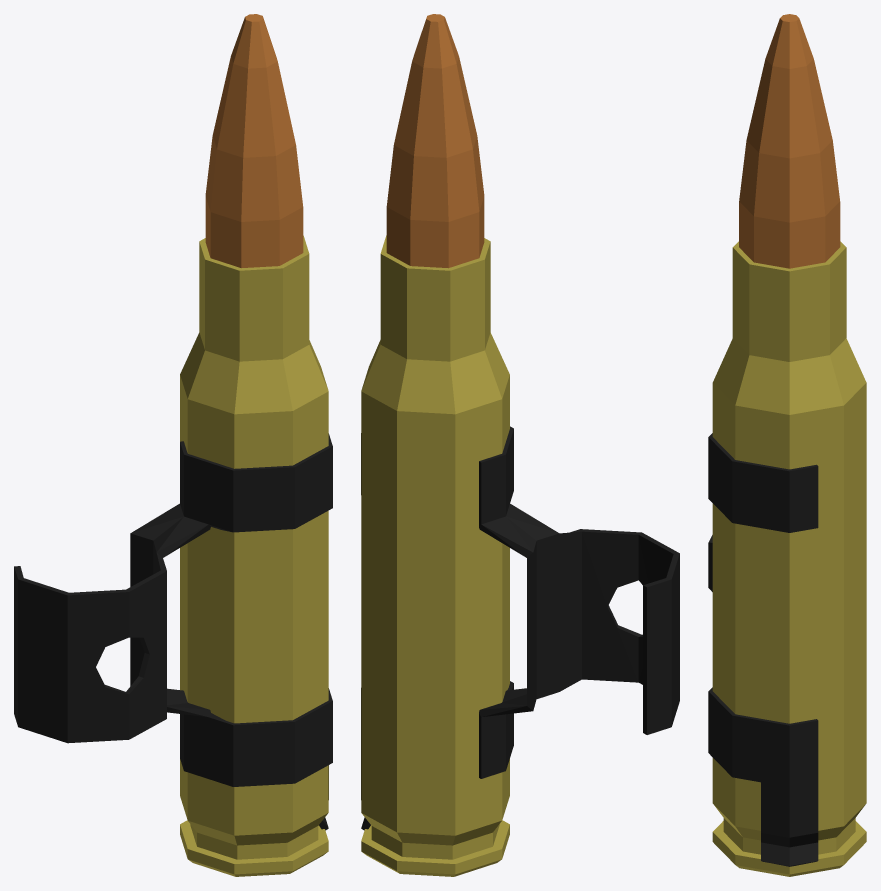
File: m60_machine_gun_magazine.glb
3 renders of one model, left to right at view 1: azimuth 30°, elevation 25°; view 2: azimuth 150°, elevation 25°; view 3: azimuth 270°, elevation 25°, orthographic.
Parts seen in each view (by area): view 1: 76251 belt_3 (×3); view 2: 76251 belt_3 (×3); view 3: 76251 belt_3 (×3).
Boxes of the visible parts, x1,y1,x2,y2 form: 76251 belt_3 (×3): [14, 14, 332, 876]; 76251 belt_3 (×3): [361, 14, 679, 876]; 76251 belt_3 (×3): [708, 14, 866, 876].
Size of the model in its own units: 0.2736 by 0.7078 by 0.1223.
